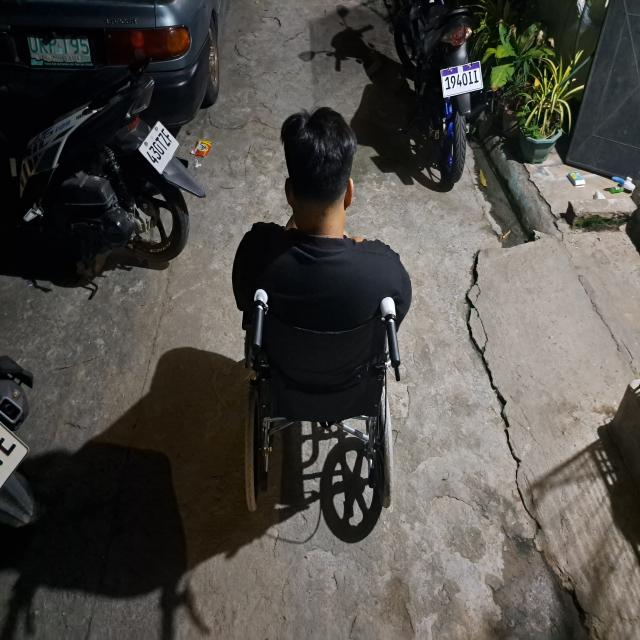wheelchairs: (238, 290, 402, 518)
